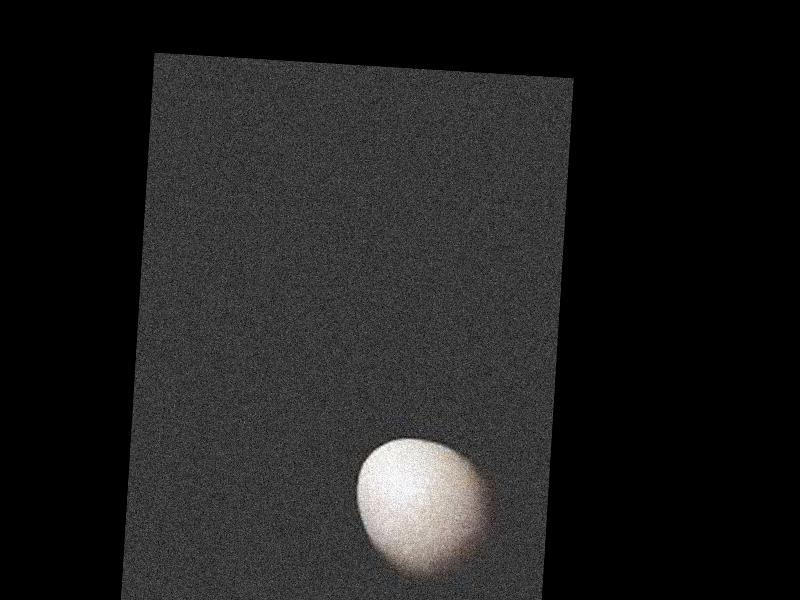Eggs: (350, 435, 497, 586)
